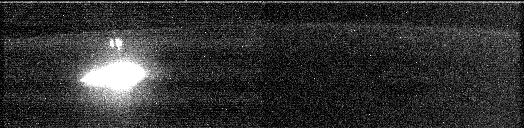positive: (107, 36, 125, 54)
